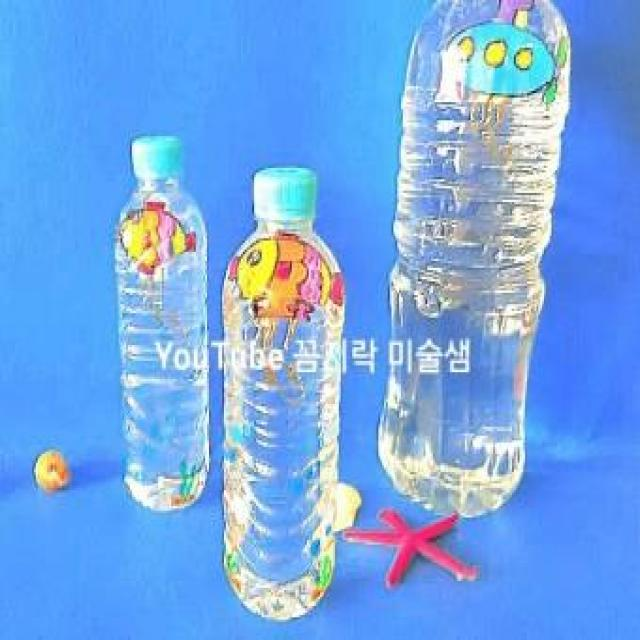bottle: (379, 0, 554, 560), (222, 140, 342, 615), (100, 133, 222, 542)
